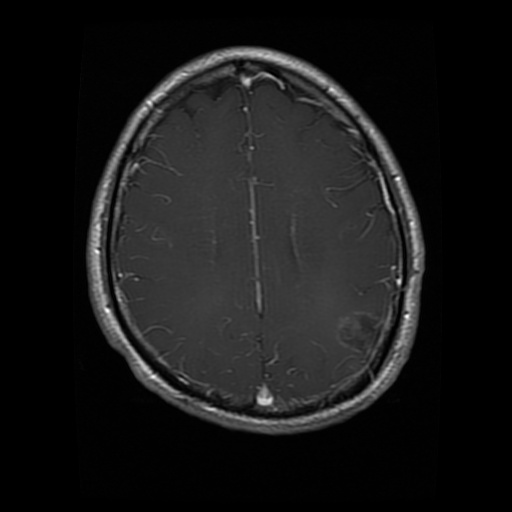glioma: (336, 308, 384, 351)
